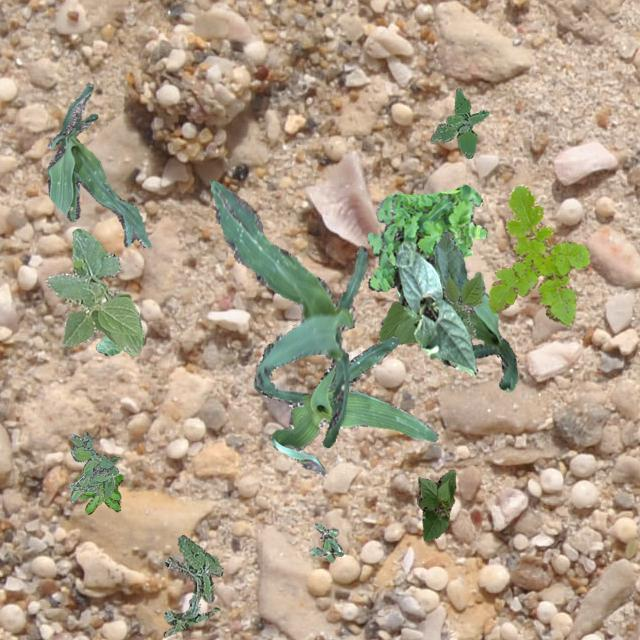crop: (210, 180, 366, 446), (253, 334, 437, 476), (46, 81, 150, 246), (379, 292, 516, 391), (44, 228, 144, 354), (376, 230, 484, 342), (392, 240, 477, 374), (416, 468, 454, 540), (94, 336, 120, 354)
weed: (488, 183, 590, 324), (366, 184, 486, 290), (162, 534, 222, 636), (430, 86, 488, 158), (68, 430, 118, 502), (77, 473, 121, 512), (308, 522, 342, 562)
